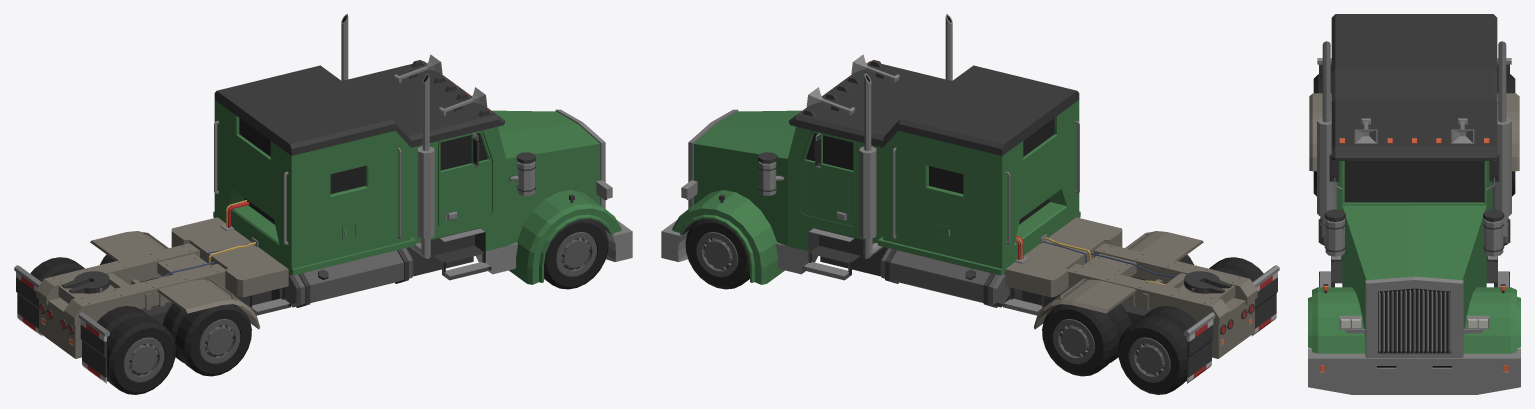
File: truck02.fbx
3 renders of one model, left to right at view 1: azimuth 30°, elevation 25°; view 2: azimuth 150°, elevation 25°; view 3: azimuth 270°, elevation 25°, orthographic. The views are drawn at different scales.
Parts seen in each view (by area): view 1: truck02; view 2: truck02; view 3: truck02.
Part boxes in pixels (<box>): truck02: <box>14,14,632,394</box>; truck02: <box>661,14,1279,394</box>; truck02: <box>1308,14,1520,394</box>.
Bounding box in the file's own units: 774 × 346 × 250.
